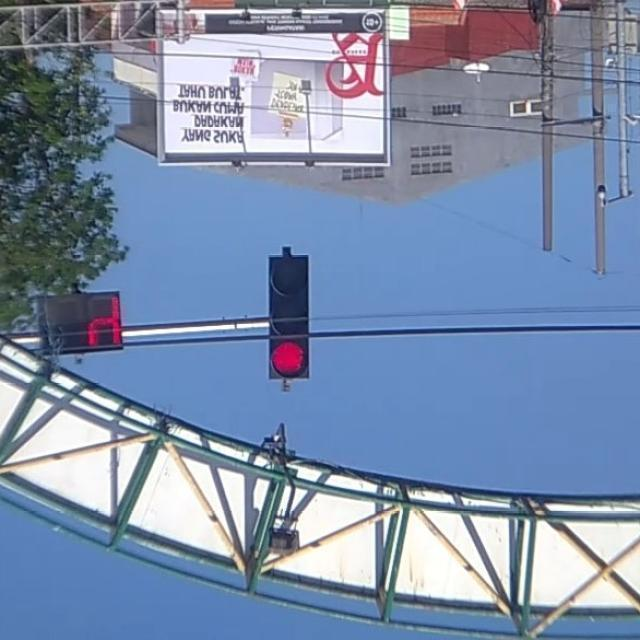red_light: (267, 246, 307, 376)
